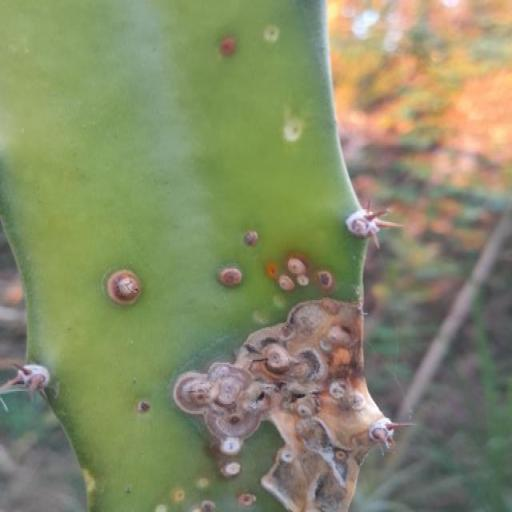stemcanker: (280, 110, 311, 149), (261, 17, 287, 54), (238, 223, 266, 254), (235, 484, 259, 512), (132, 394, 157, 417), (196, 473, 212, 497), (150, 491, 168, 512), (172, 487, 188, 505), (296, 273, 312, 291)
